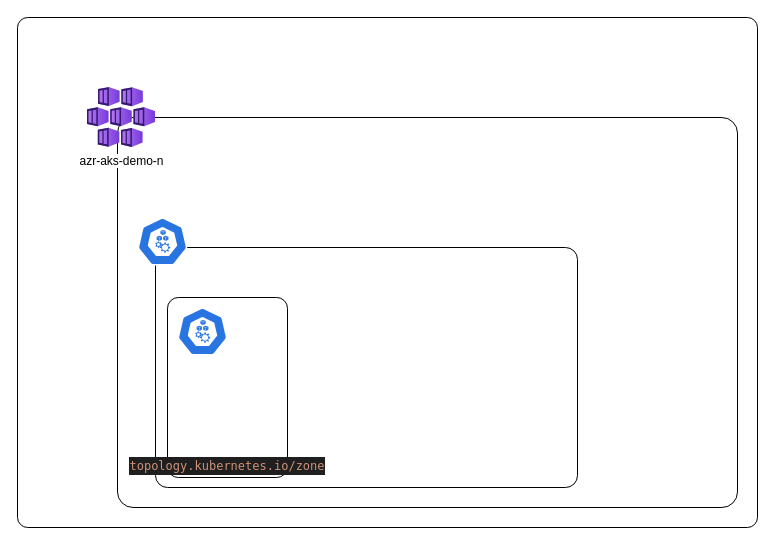
The diagram is 775 pixels wide and 545 high, and some of its shapes have lost their labels. The centre of each missing label's shape, as x and y in pixels:
"Node 1" belongs at (x=202, y=331).
"NodePool" belongs at (x=162, y=241).
